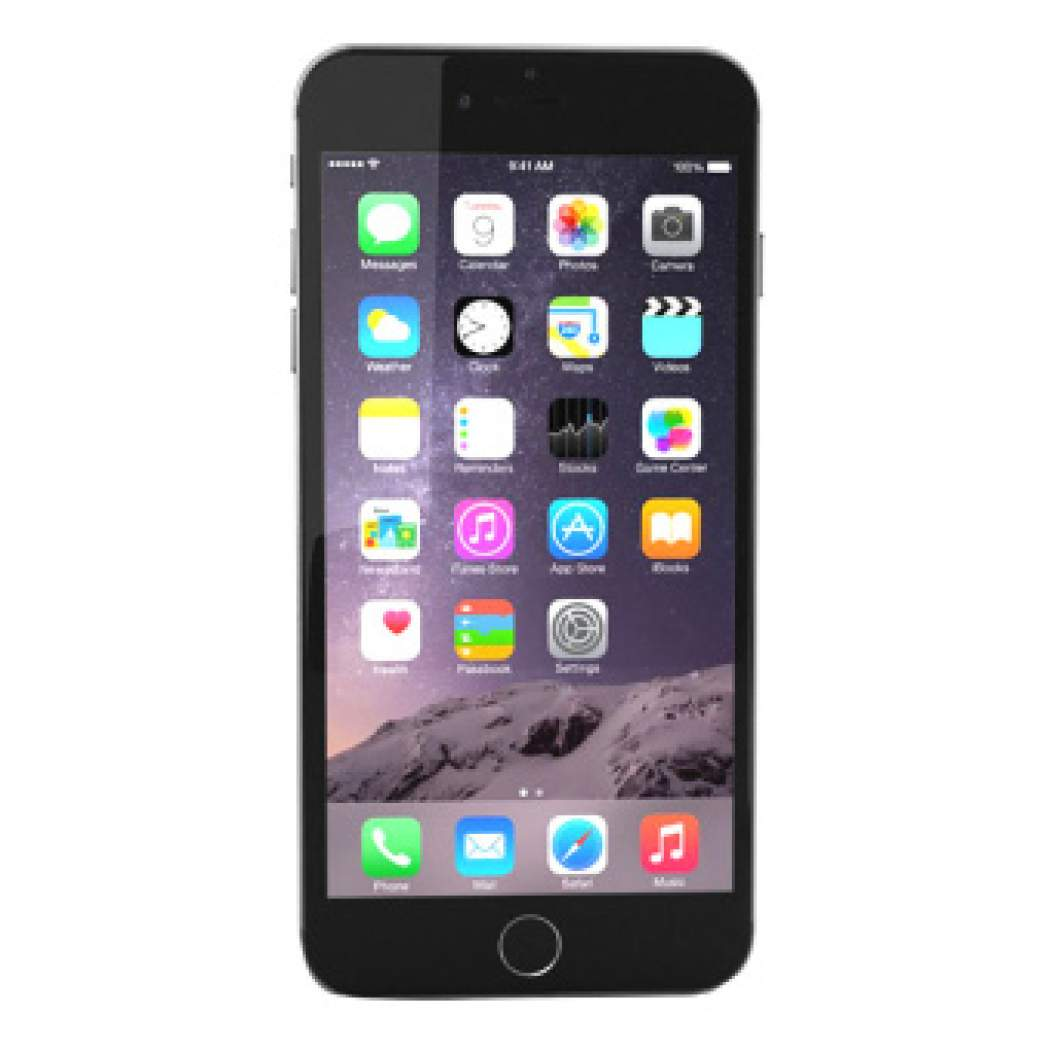Handphone: (284, 31, 764, 1013)
